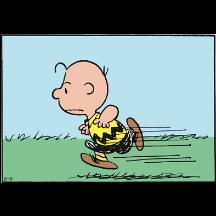charlie: (50, 59, 144, 169)
